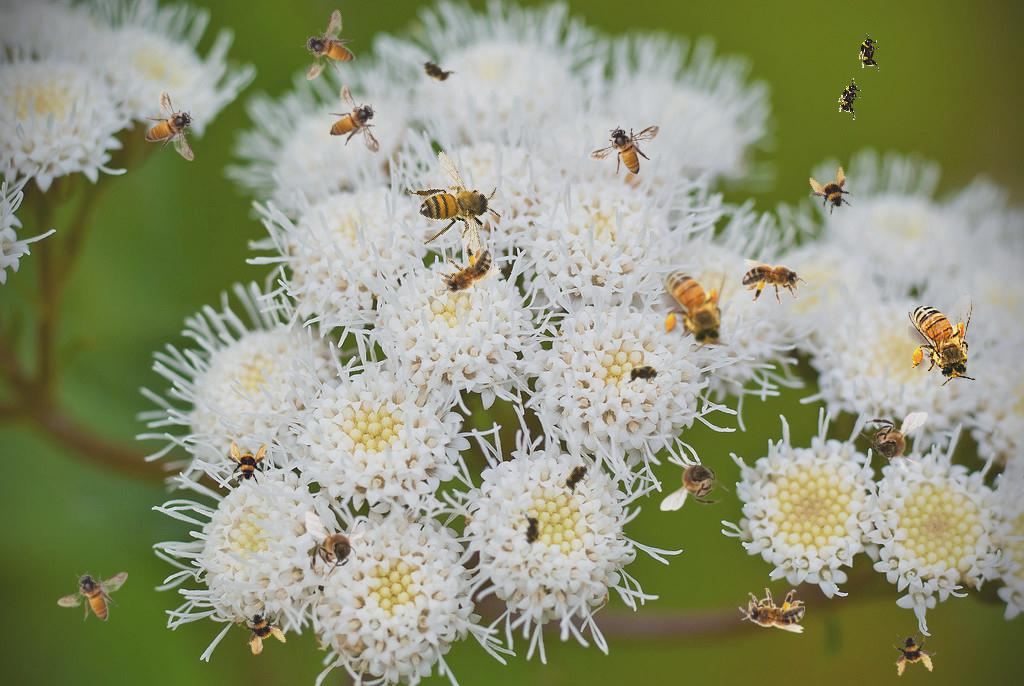Bee: (384, 139, 529, 285), (285, 7, 371, 94), (661, 259, 729, 352), (908, 293, 976, 386), (424, 234, 504, 311), (660, 450, 730, 511), (305, 511, 366, 581), (858, 412, 928, 473), (325, 82, 381, 157), (801, 162, 861, 222), (234, 599, 294, 659), (57, 571, 128, 621), (145, 90, 195, 161), (589, 125, 660, 175), (742, 259, 808, 304), (739, 588, 805, 633), (887, 626, 941, 680), (555, 454, 599, 500), (224, 441, 268, 485), (413, 50, 459, 92), (833, 75, 867, 121), (518, 509, 546, 553), (624, 363, 664, 385), (858, 32, 880, 72)
